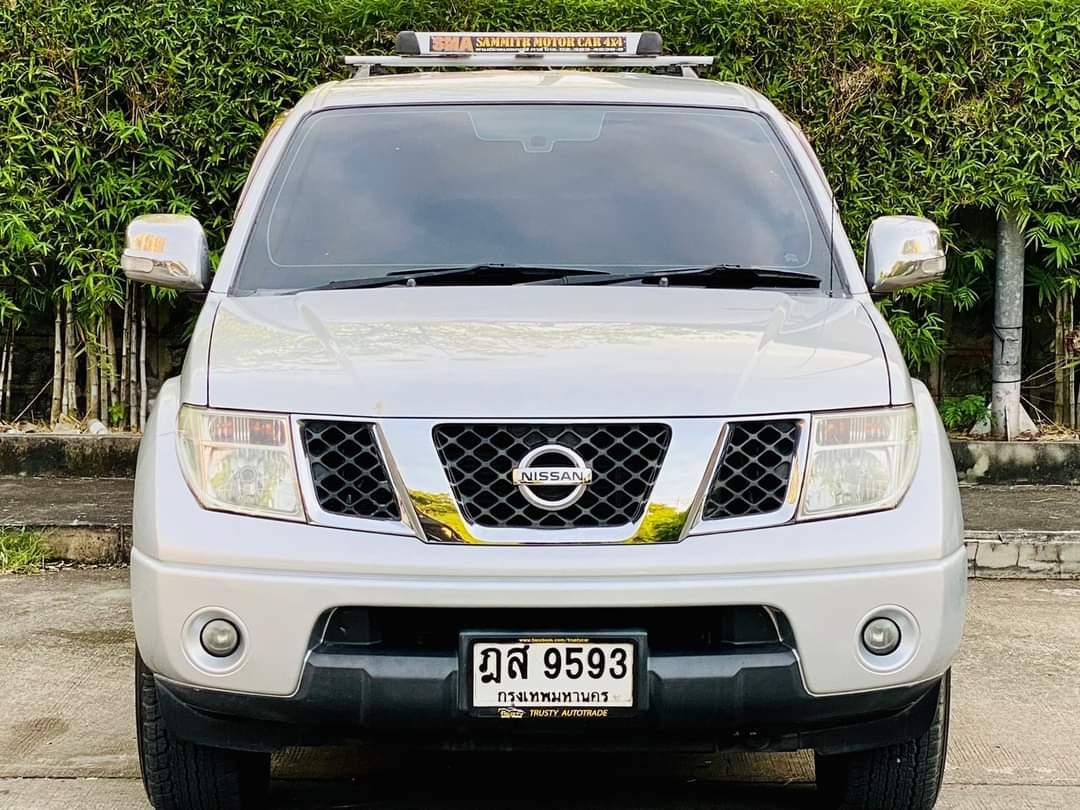license-plate: (450, 623, 652, 723)
